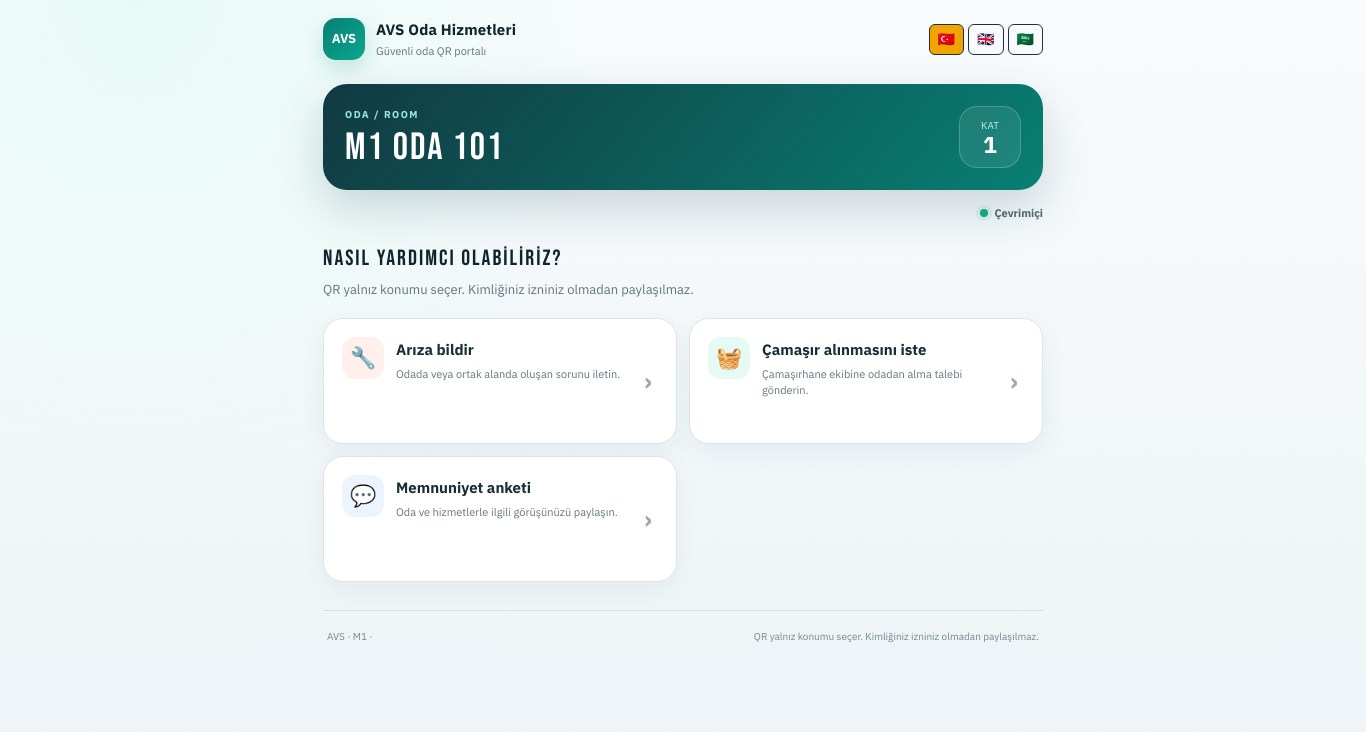
Test: oda portalı erişilebilirliği › hata mesajı ekran okuyucuya duyurulur
Click the button "Arıza bildir" at point(500, 380), box [323, 318, 677, 444]
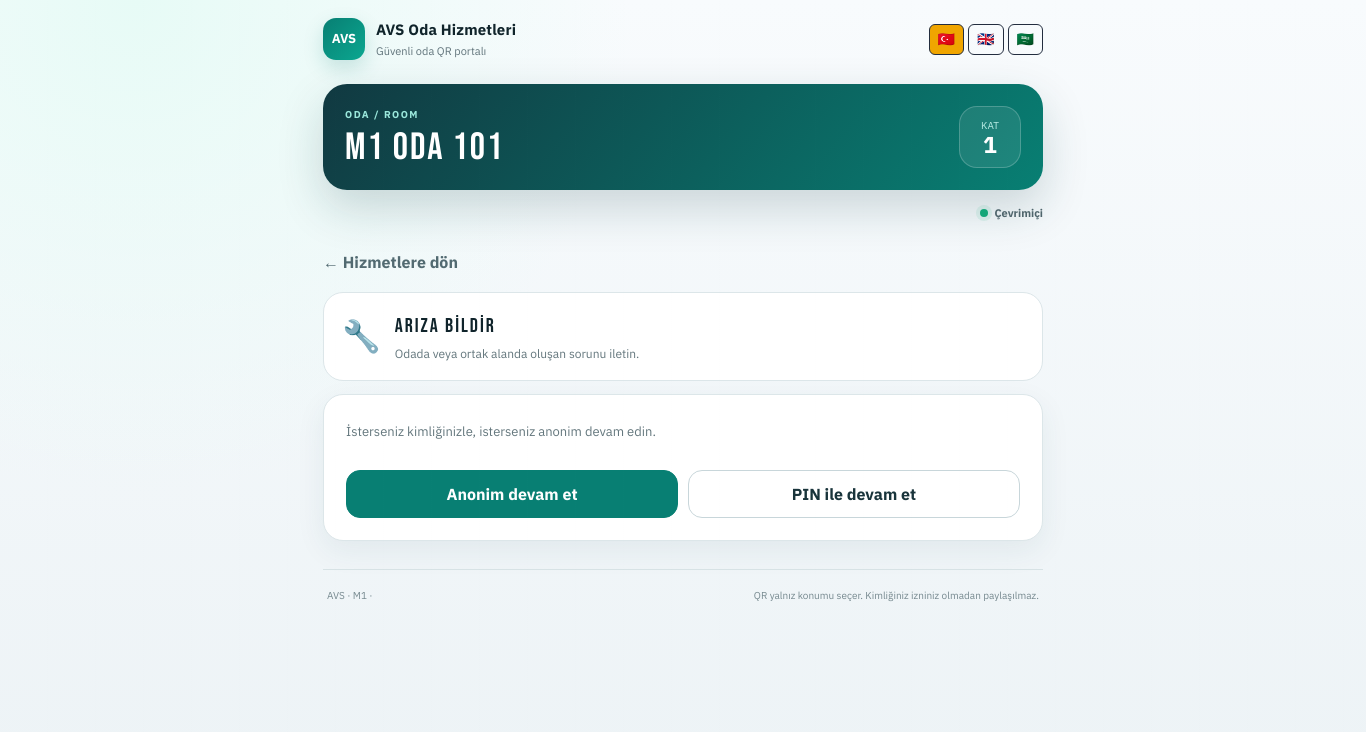
Click the button "Anonim devam et" at point(512, 494), box [346, 470, 678, 518]
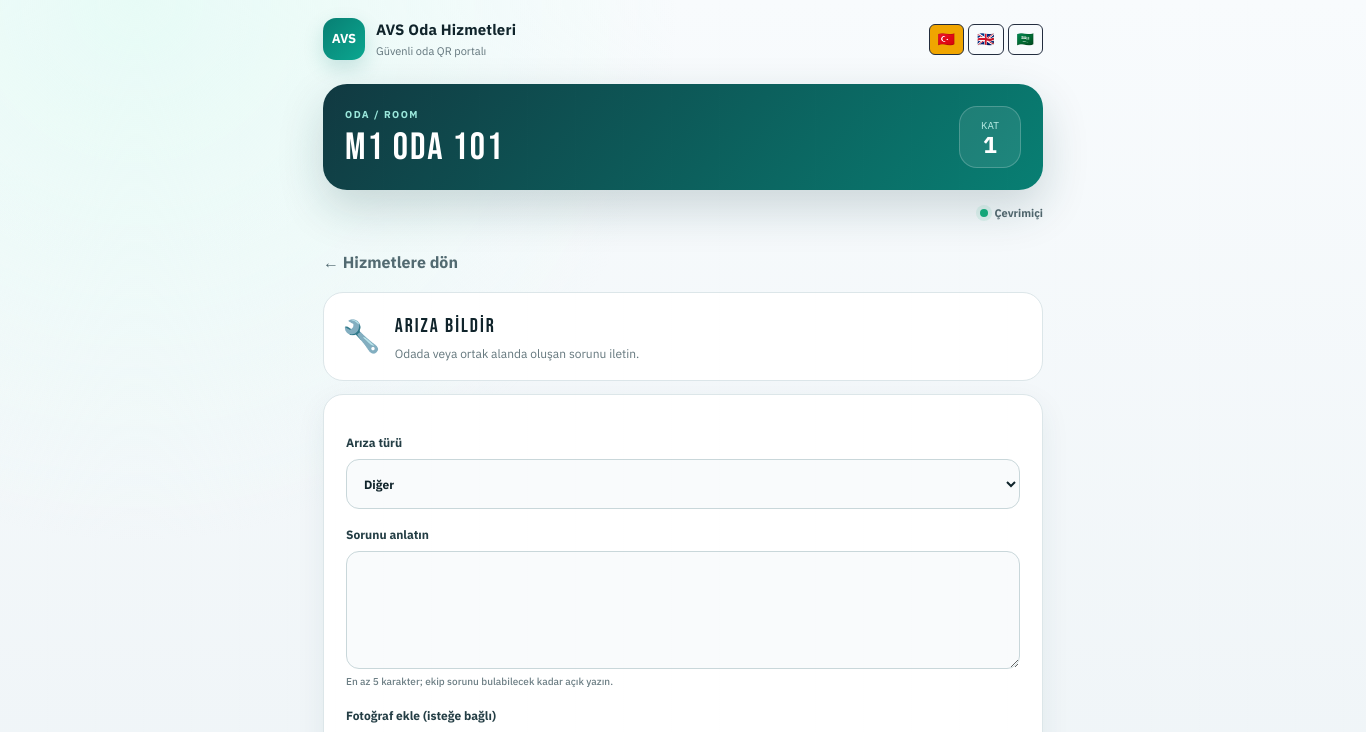
Type "Priz çalışmıyor" into the text box named "Sorunu anlatın" at point(683, 610), box [346, 551, 1020, 669]
(page scrolled)
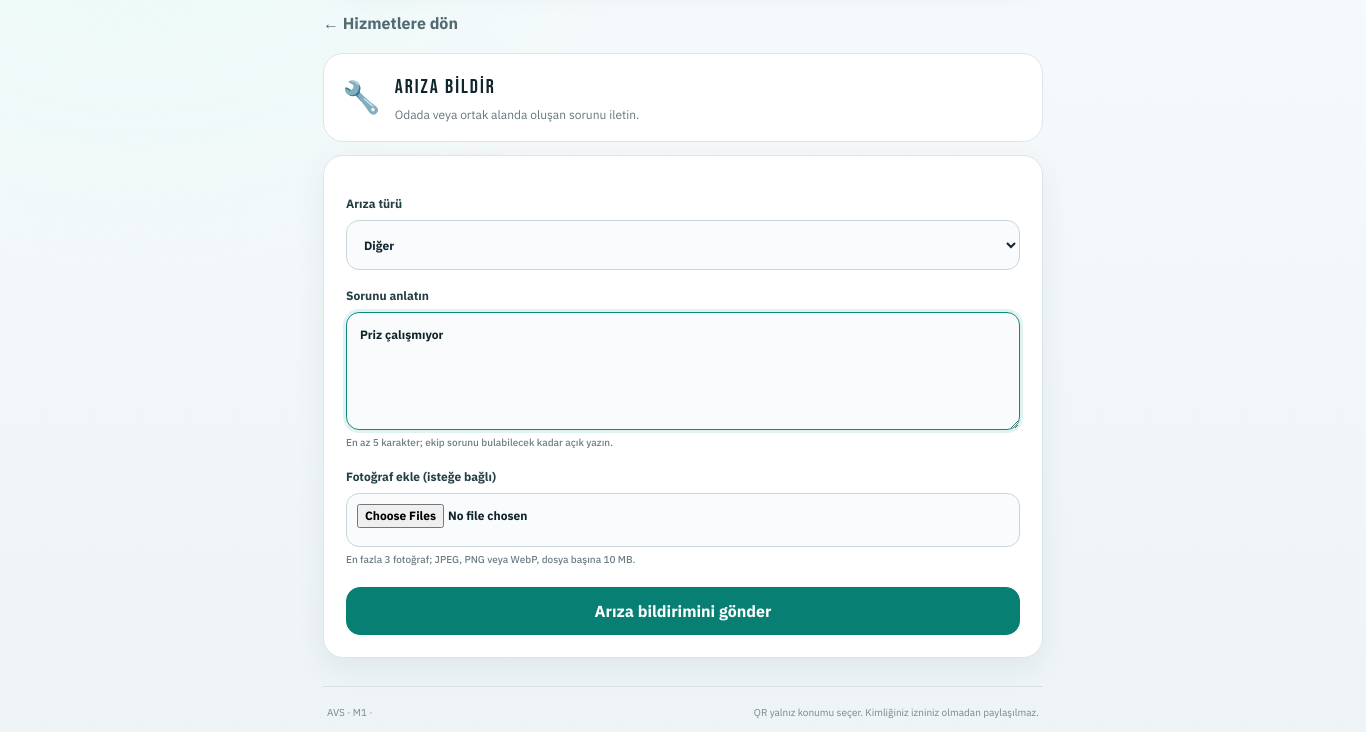
Click the button "Arıza bildirimini gönder" at point(683, 611), box [346, 587, 1020, 635]
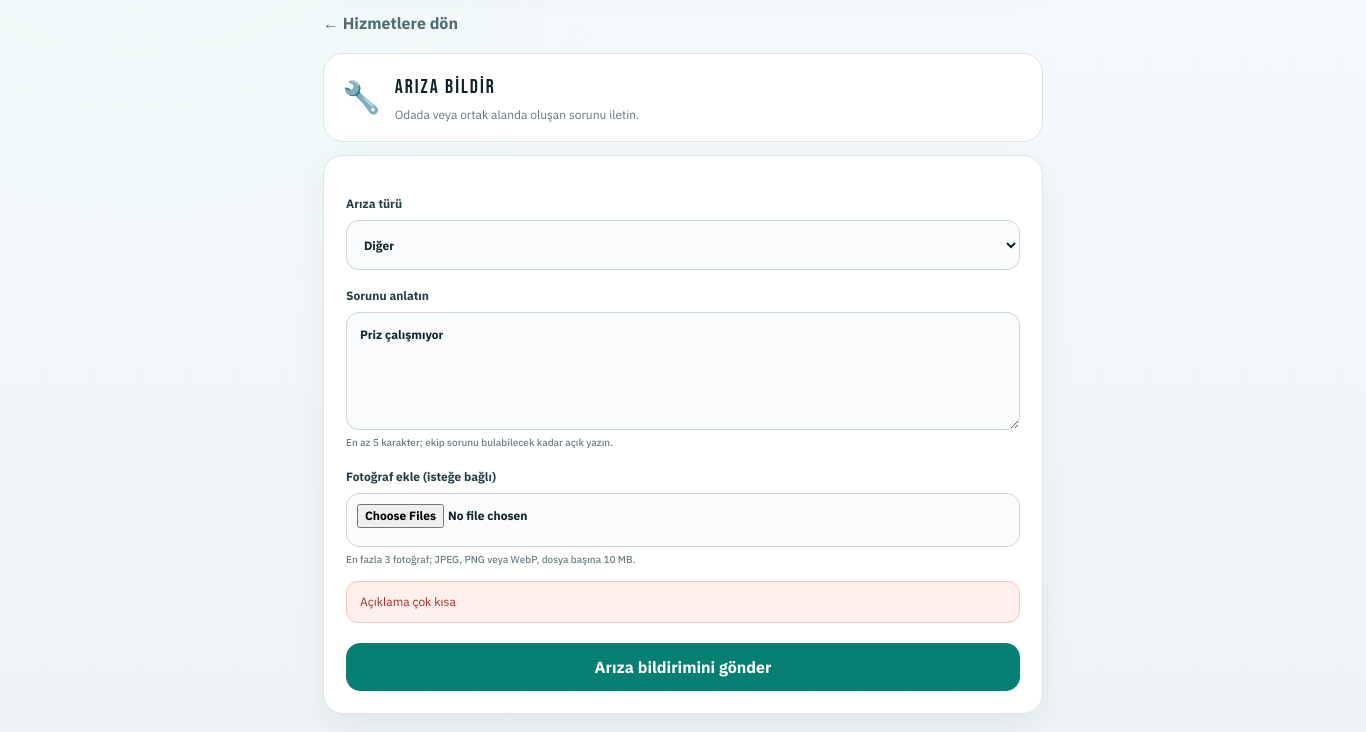
Now the message reads "Açıklama çok kısa", box [360, 594, 456, 609]
